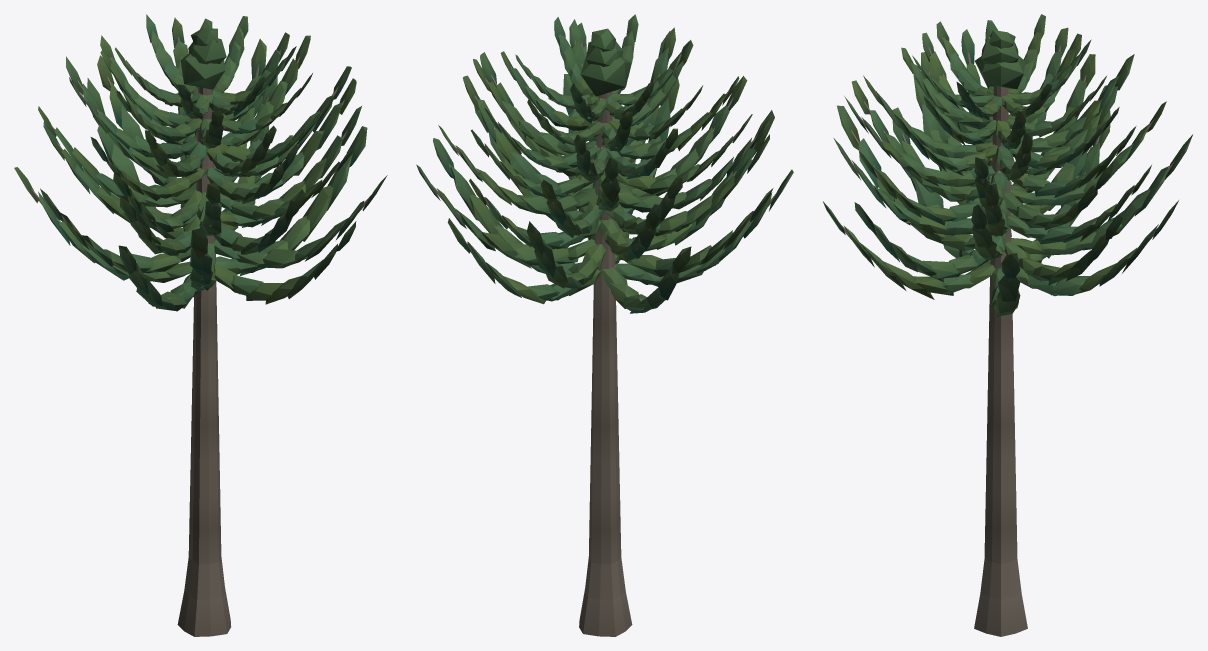
File: araucaria_a.glb
3 renders of one model, left to right at view 1: azimuth 30°, elevation 25°; view 2: azimuth 150°, elevation 25°; view 3: azimuth 270°, elevation 25°, orthographic.
Visible parts, largest first — view 1: araucaria_a; view 2: araucaria_a; view 3: araucaria_a.
Part boxes in pixels (x1,y1,x2,y2): araucaria_a: (14,14,387,636); araucaria_a: (416,14,793,636); araucaria_a: (823,14,1192,636).
Bounding box in the file's own units: 7.69 × 13.12 × 7.42.
